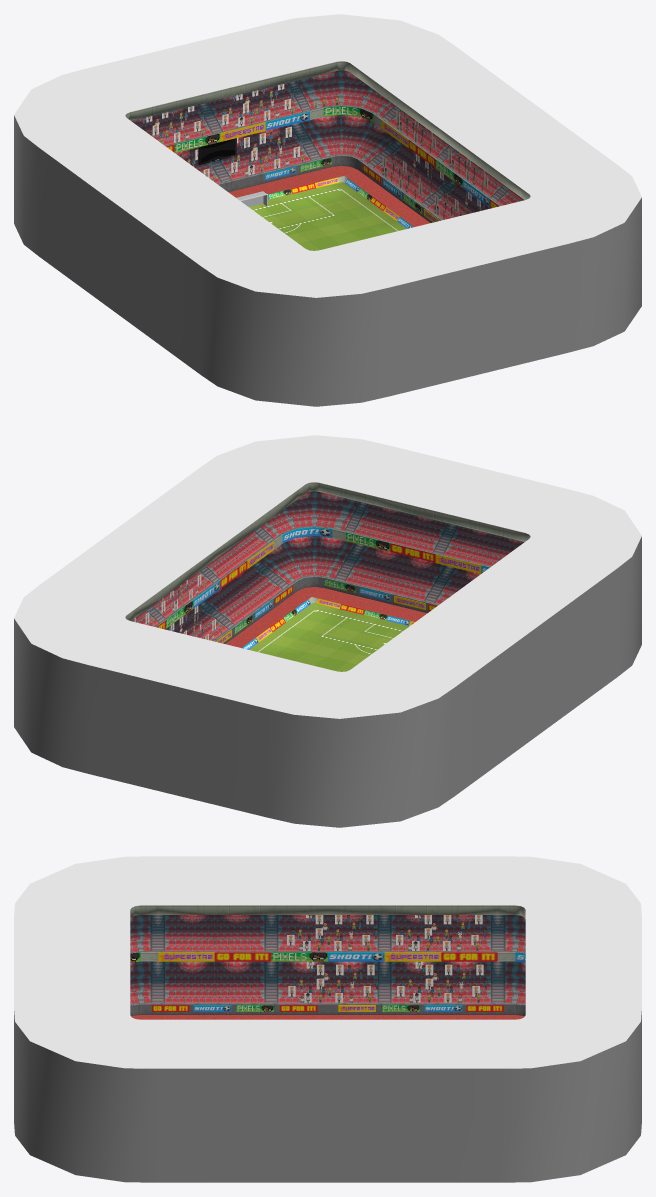
Rendered from Stadium.fbx.
The picture shows the model from 3 angles, top to bottom: view 1: azimuth 30°, elevation 25°; view 2: azimuth 150°, elevation 25°; view 3: azimuth 270°, elevation 25°; orthographic projection. The views are drawn at different scales.
Visible parts, largest first — view 1: Level00_Stadium, Level00_Crowd, Level00_ScoreScreen; view 2: Level00_Stadium, Level00_Crowd; view 3: Level00_Stadium, Level00_Crowd.
Boxes of the visible parts, x1,y1,x2,y2 form: Level00_Stadium: [14, 14, 641, 406]; Level00_Crowd: [142, 84, 496, 219]; Level00_ScoreScreen: [198, 138, 236, 164]; Level00_Stadium: [14, 435, 641, 827]; Level00_Crowd: [134, 571, 222, 640]; Level00_Stadium: [14, 856, 641, 1182]; Level00_Crowd: [287, 915, 487, 1002].
Bounding box in the file's own units: 10804 × 2700 × 13491.
Materials: 22 (20 with a texture image).
